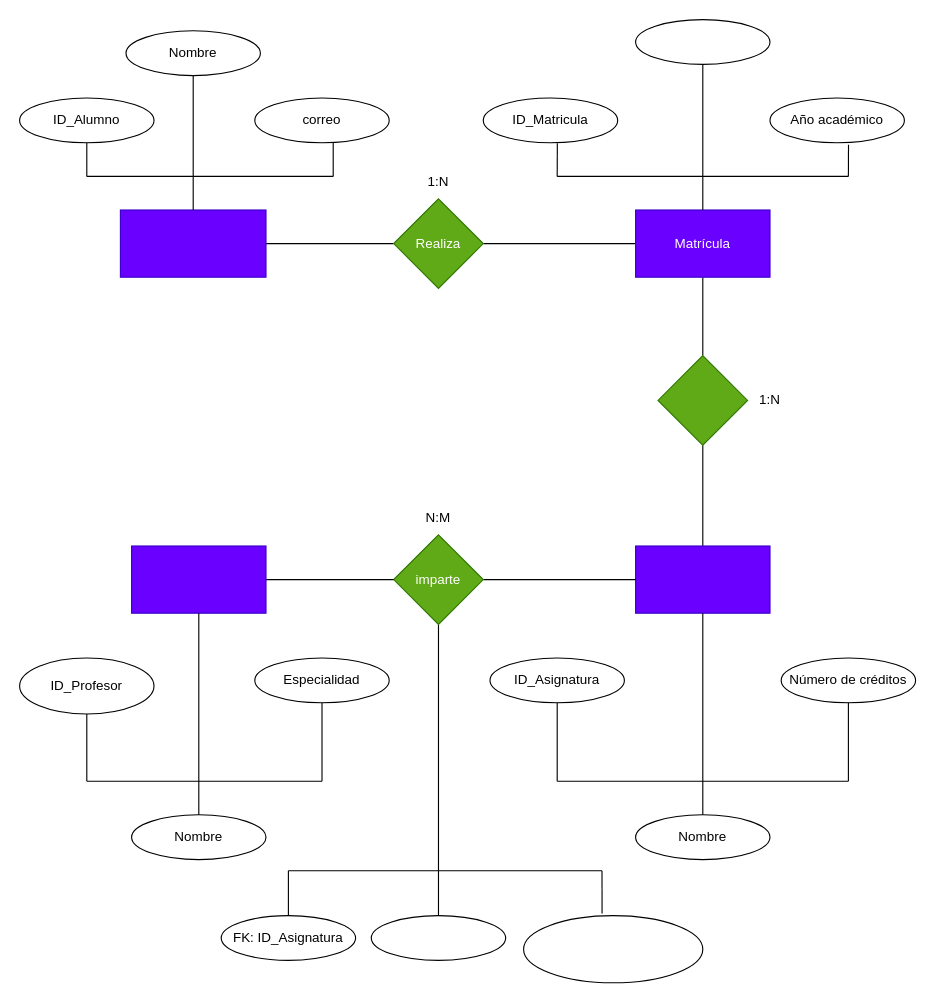
Image size: 935x1002. Some labels were removed from this diagram. Each missing label, with the box of its shape:
Alumno: (119, 209, 266, 277)
Asignatura: (634, 545, 770, 613)
Fecha: (634, 18, 770, 64)
FK: ID_Profesor: (370, 914, 506, 960)
pertenece a: (657, 354, 748, 445)
PK: ID_AsignaturaImpartida: (522, 914, 703, 983)
Profesor: (130, 545, 266, 613)
